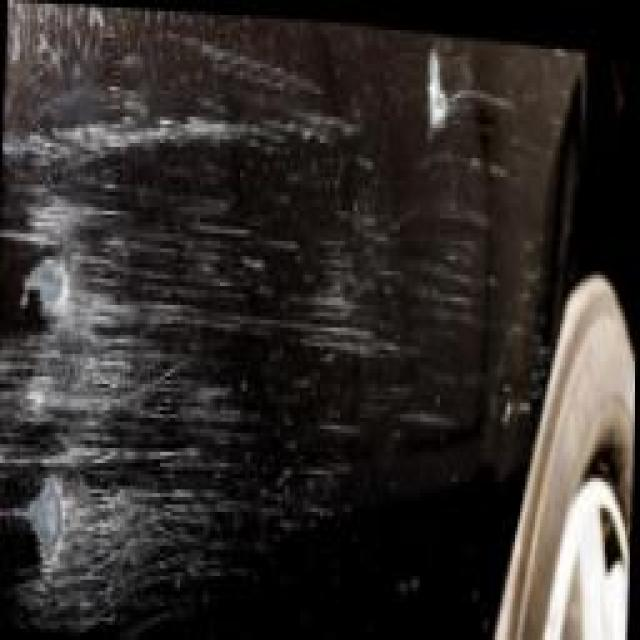Bumper: (0, 0, 582, 640)
